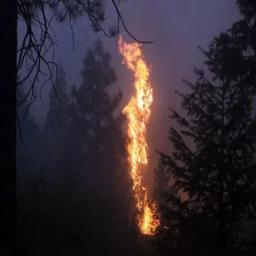Low smoke: (14, 3, 193, 174)
Medium fire: (113, 38, 166, 238)
